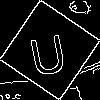U: (25, 25, 70, 78)
